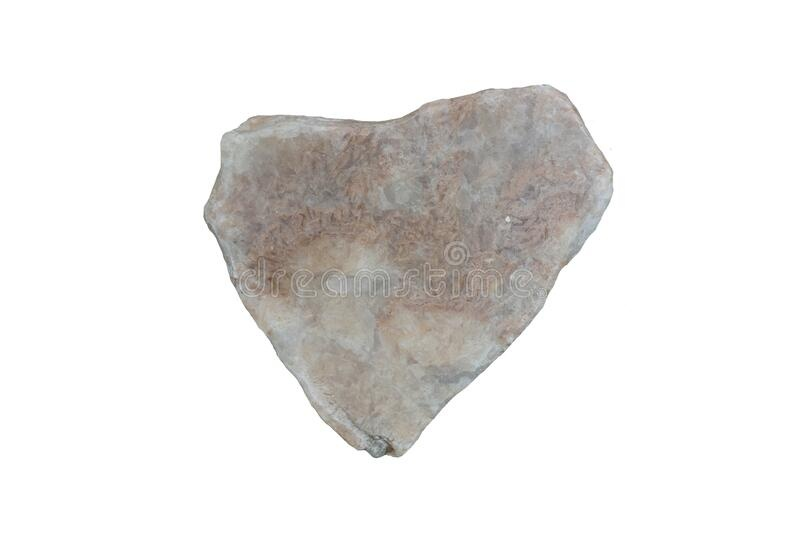obstacle: (205, 86, 611, 456)
